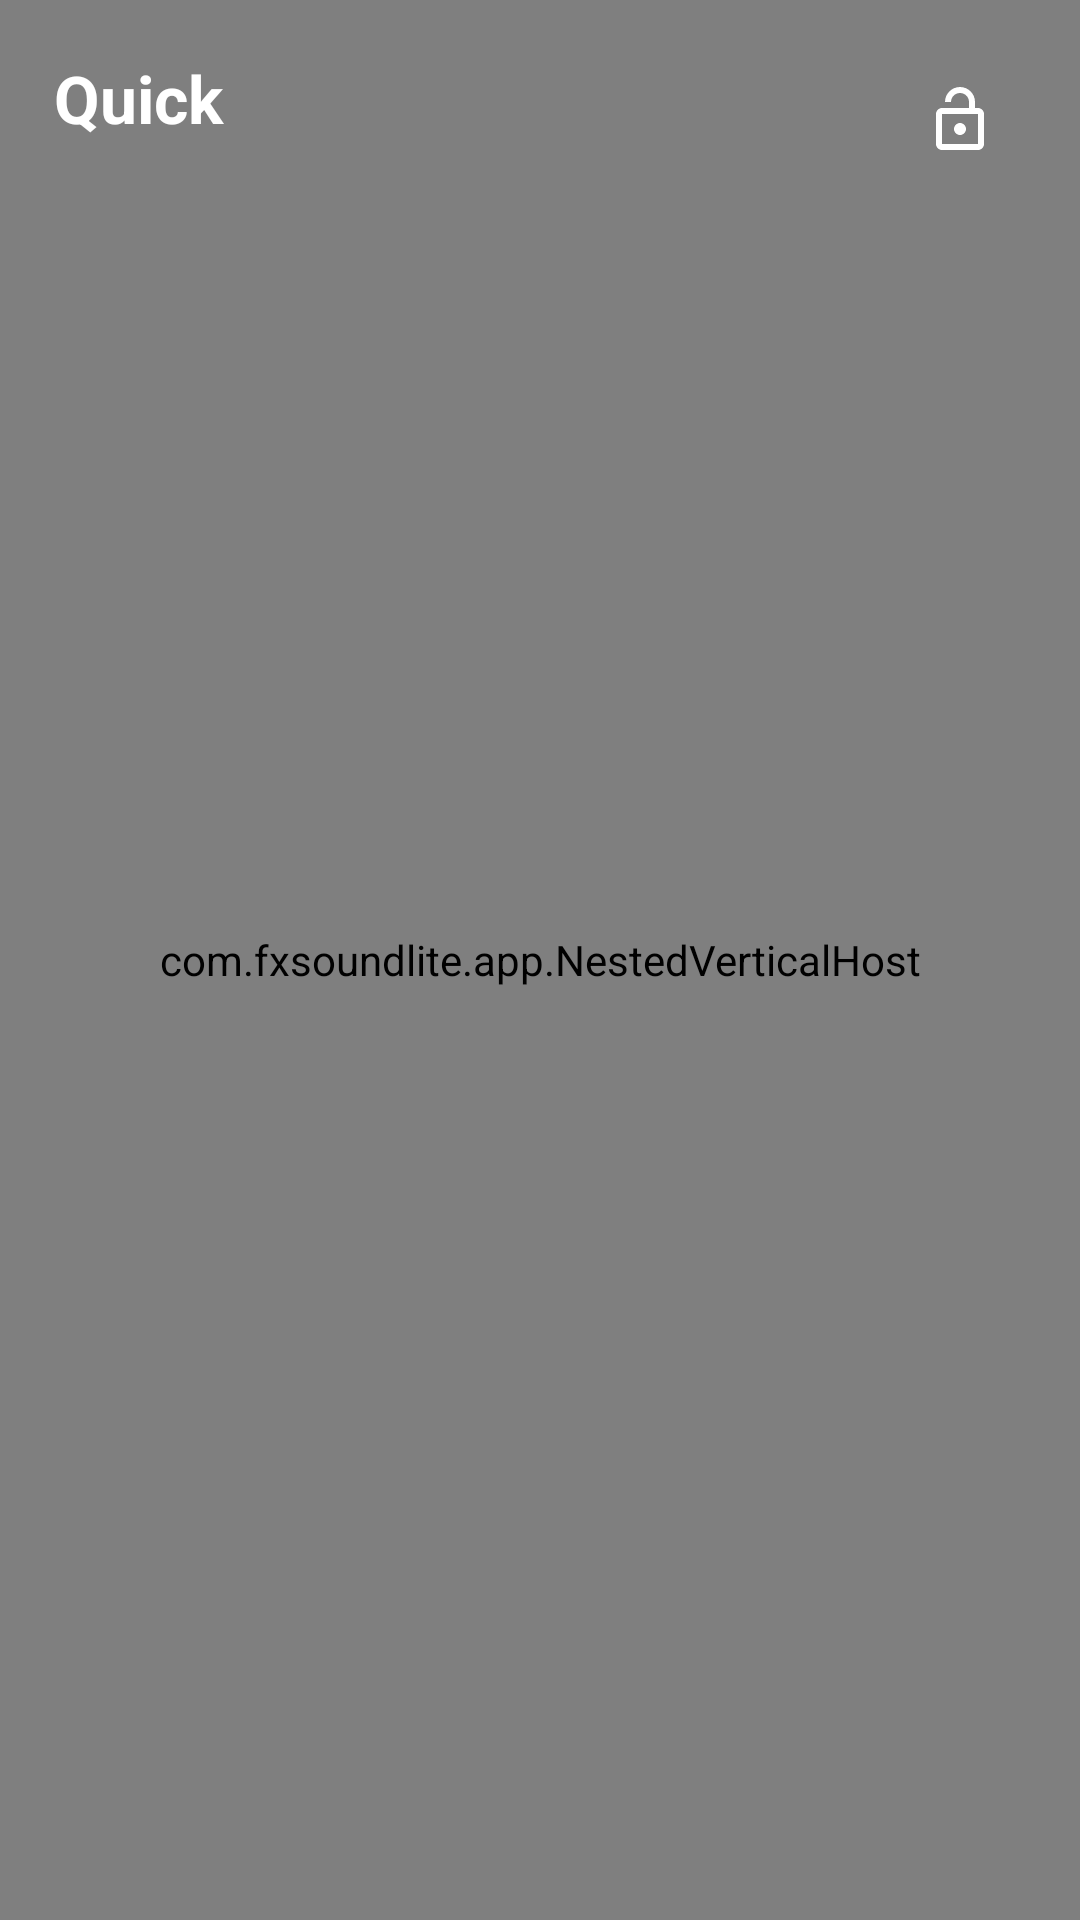

Icons on this 1080x1920 Android screen, each with the point to tap as (x=x, y=y):
Lock scrolling to up and down: (x=960, y=118)
